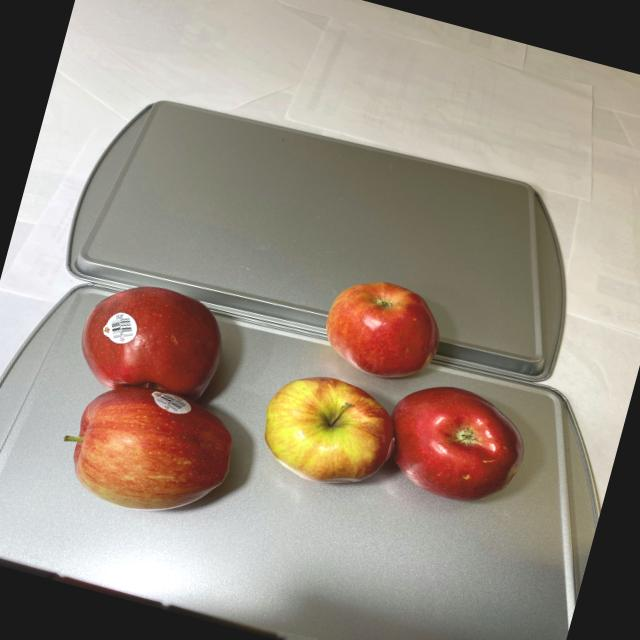apple: (251, 258, 564, 536), (36, 268, 274, 536)
